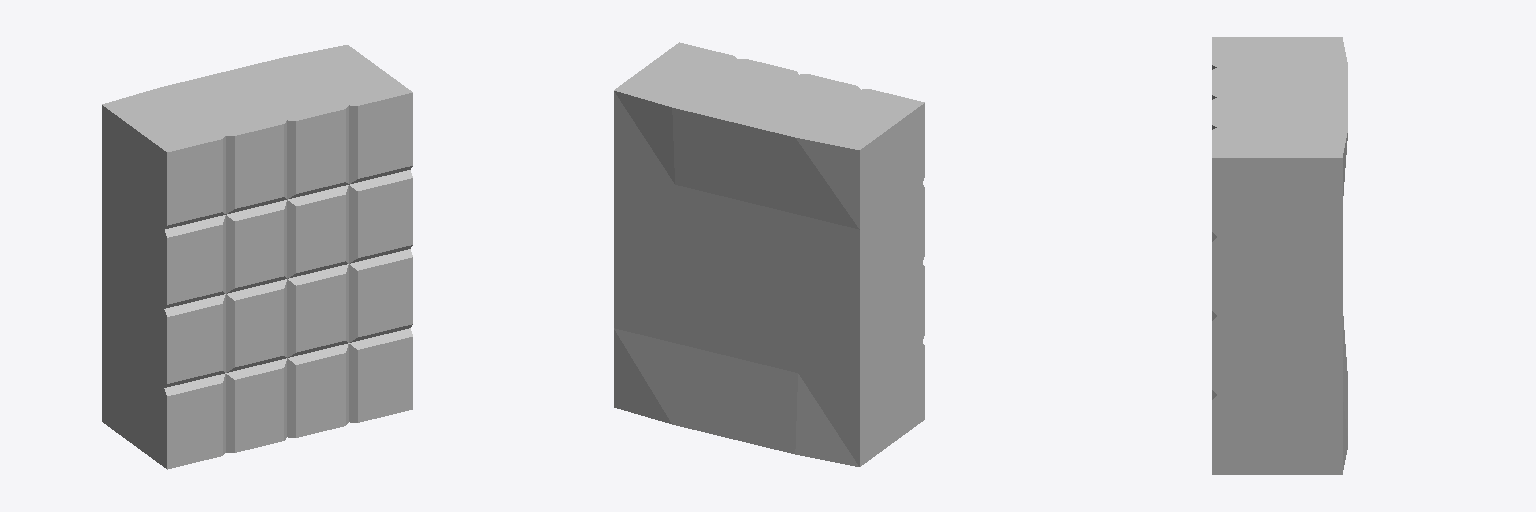
The model's file is 4x4shelf.obj.
3 renders of one model, left to right at view 1: azimuth 30°, elevation 25°; view 2: azimuth 150°, elevation 25°; view 3: azimuth 270°, elevation 25°, orthographic.
Visible parts, largest first — view 1: Cube; view 2: Cube; view 3: Cube.
Part boxes in pixels (left/top/right/bottom): Cube: left=102, top=45, right=412, bottom=469; Cube: left=614, top=42, right=924, bottom=466; Cube: left=1212, top=37, right=1347, bottom=474.
Bounding box in the file's own units: 1.3 × 1.6 × 0.6264.